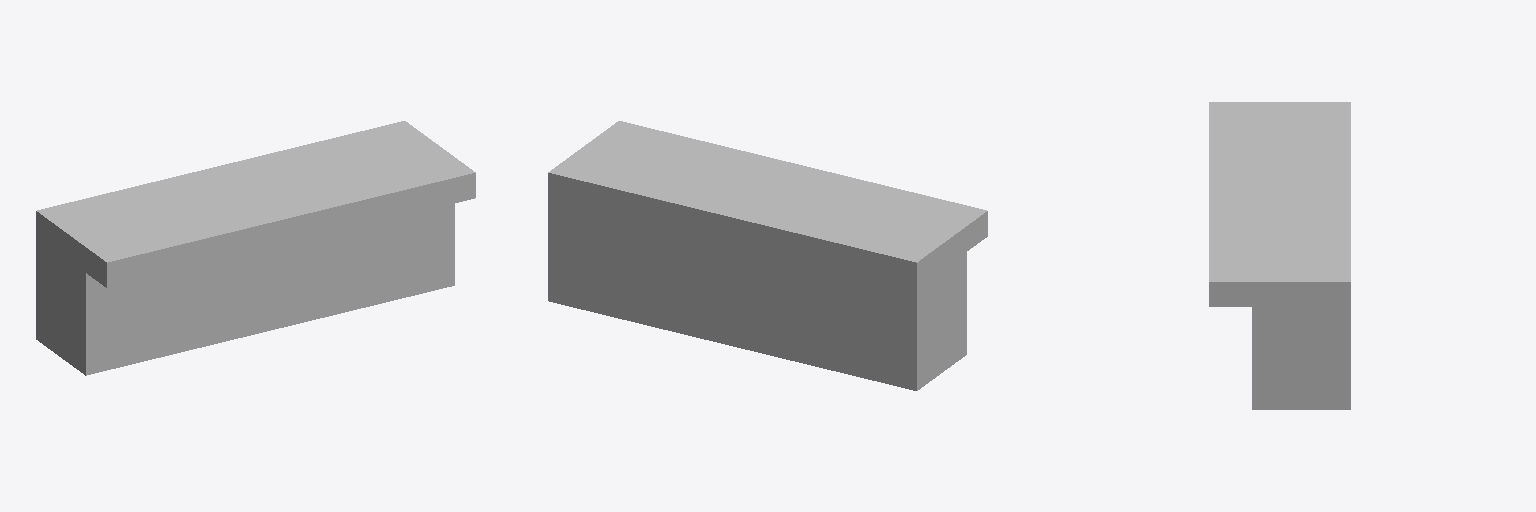
The model's file is Counter Smith.obj.
3 renders of one model, left to right at view 1: azimuth 30°, elevation 25°; view 2: azimuth 150°, elevation 25°; view 3: azimuth 270°, elevation 25°, orthographic.
Visible parts, largest first — view 1: object 1; view 2: object 1; view 3: object 1.
Boxes of the visible parts, x1,y1,x2,y2 form: object 1: [36, 121, 475, 375]; object 1: [548, 121, 987, 390]; object 1: [1209, 102, 1350, 409].
Bounding box in the file's own units: 3 × 1 × 1.